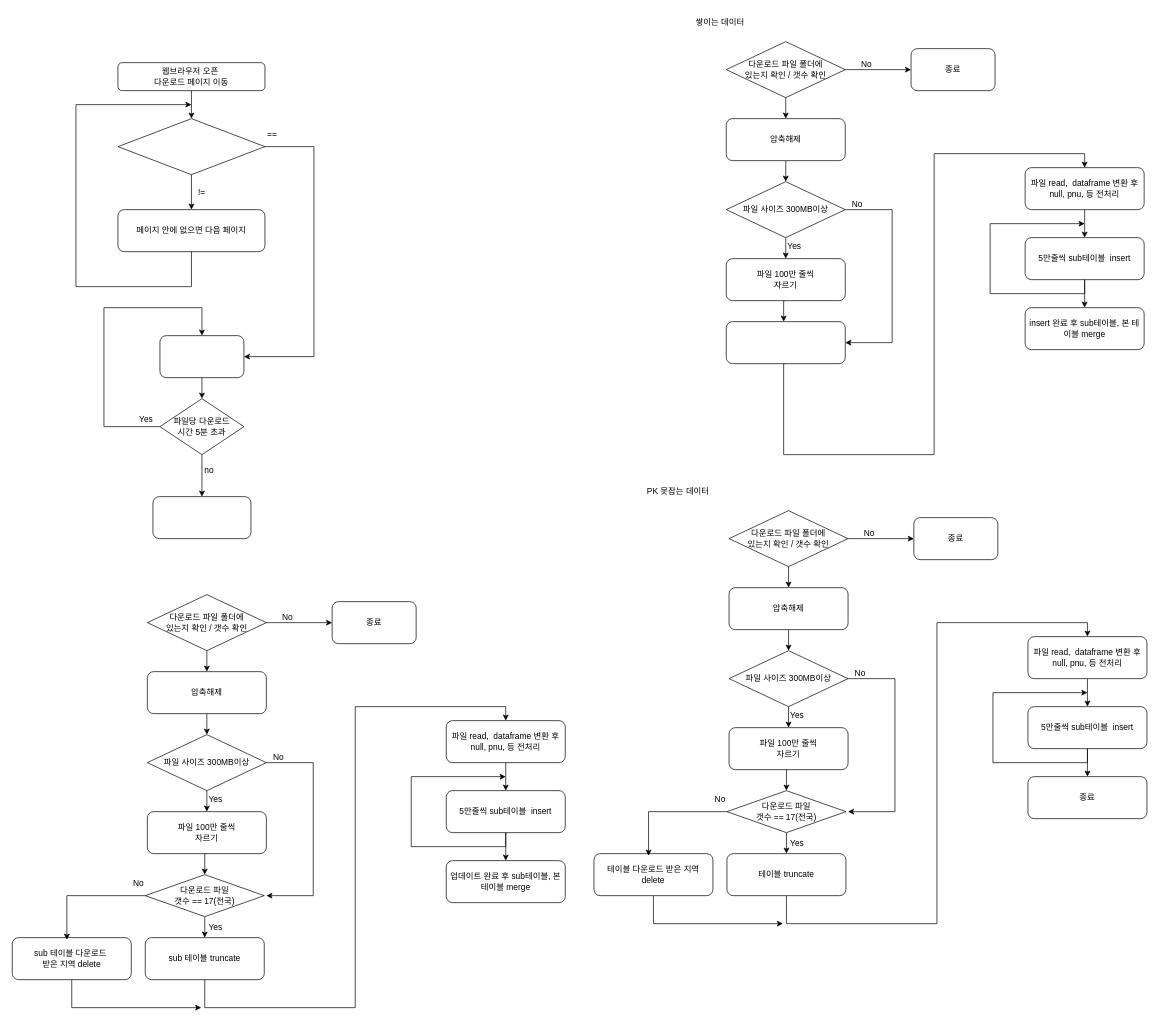
The diagram is 1159 pixels wide and 1026 high, and some of its shapes have lost their labels. The shapes that lost their labels are listed below. From the top down, each one's centre as x and y in pixels, then its label:
At pixel 191 146: "다운로드 받을 서비스명, 기존 다운로드 날짜 비교".
At pixel 201 356: "파일 다운로드".
At pixel 785 342: "테이블 다운로드 받은 지역, 올해, 작년 row delete".
At pixel 201 517: "전체 다운로드 시간 1시간 초과시 에러메세지 전송".
